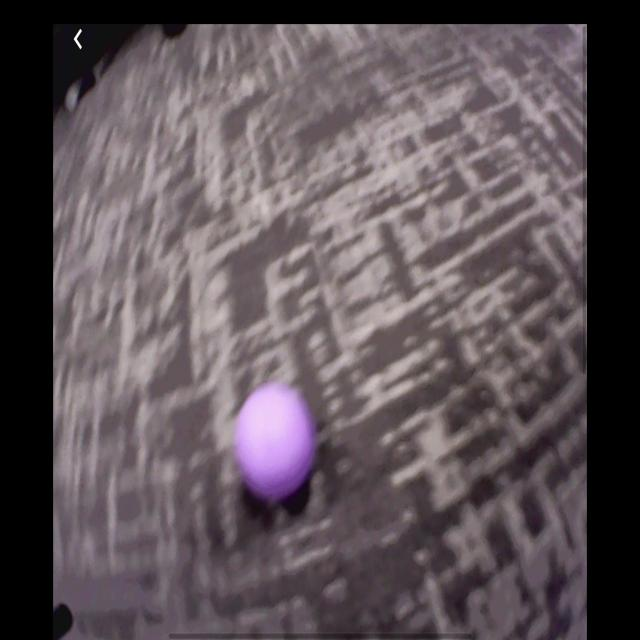ball: (240, 388, 318, 496)
